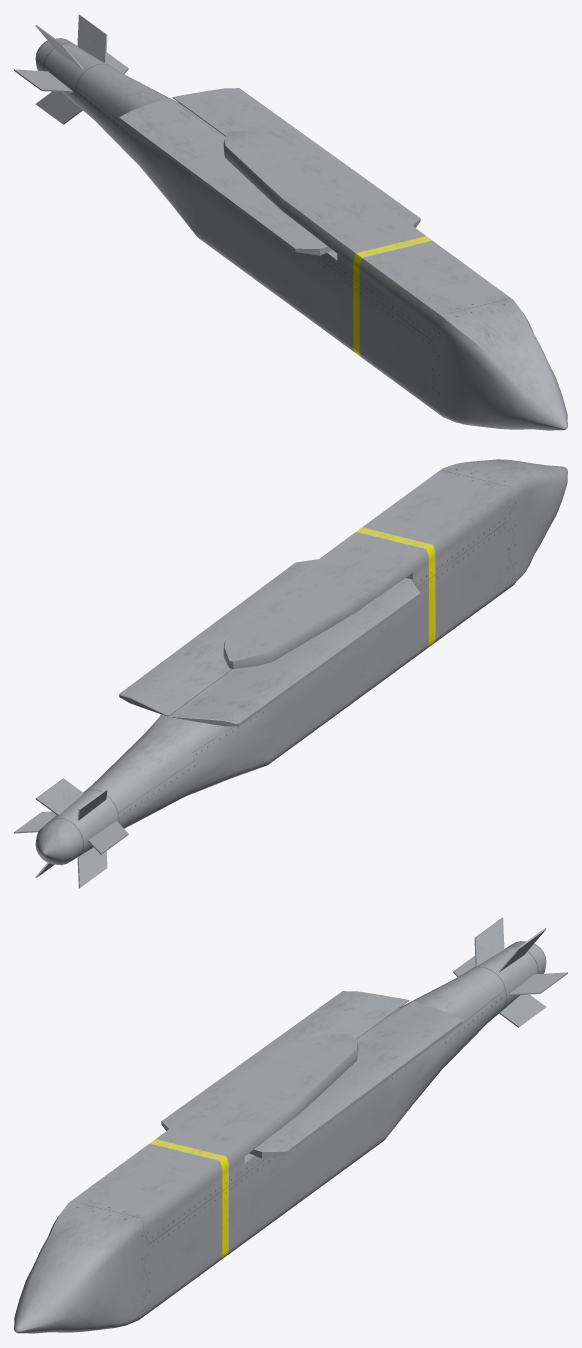
File: agm154_jsow_rickslash.obj
The picture shows the model from 3 angles, top to bottom: view 1: azimuth 30°, elevation 25°; view 2: azimuth 150°, elevation 25°; view 3: azimuth 330°, elevation 25°; orthographic projection.
Visible parts, largest first — view 1: body, polySurface266, polySurface265, plane130, plane127, plane125; view 2: body, polySurface266, polySurface265, plane130, plane127, plane125; view 3: body, polySurface265, polySurface266, plane128, plane129, plane126.
Boxes of the visible parts, bbox=[...] form: body: bbox=[35, 38, 567, 430]; polySurface266: bbox=[119, 98, 332, 255]; polySurface265: bbox=[172, 88, 420, 227]; plane130: bbox=[77, 14, 107, 63]; plane127: bbox=[35, 91, 82, 124]; plane125: bbox=[14, 69, 72, 92]; body: bbox=[35, 459, 567, 865]; polySurface266: bbox=[172, 580, 420, 726]; polySurface265: bbox=[119, 559, 318, 716]; plane130: bbox=[35, 778, 83, 815]; plane127: bbox=[77, 847, 107, 888]; plane125: bbox=[88, 821, 128, 854]; body: bbox=[14, 941, 546, 1333]; polySurface265: bbox=[249, 1001, 462, 1158]; polySurface266: bbox=[161, 991, 409, 1130]; plane128: bbox=[474, 917, 504, 966]; plane129: bbox=[499, 994, 546, 1027]; plane126: bbox=[509, 972, 567, 995].
Bounding box in the file's own units: 0.2764 × 0.2111 × 2.
1 material, 1 textured.
